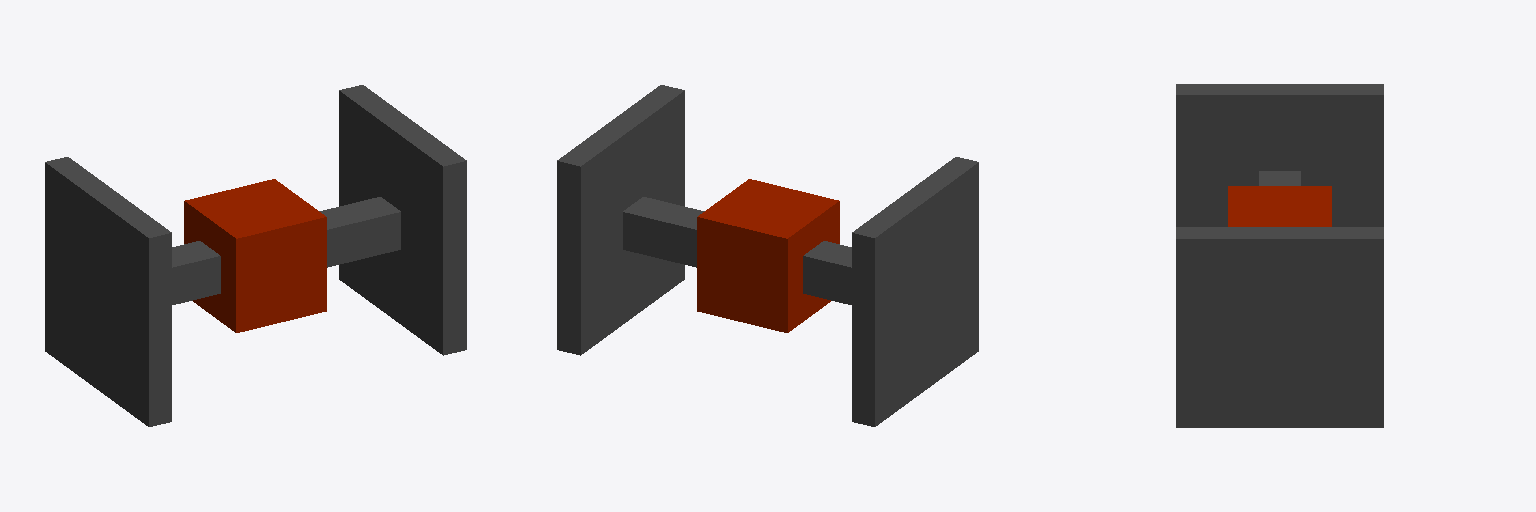
The model's file is tie_fighter_v2.obj.
3 views of the same model, side by side, from view 1: azimuth 30°, elevation 25°; view 2: azimuth 150°, elevation 25°; view 3: azimuth 270°, elevation 25° (orthographic).
Bounding box in the file's own units: 7.04 × 4 × 4.